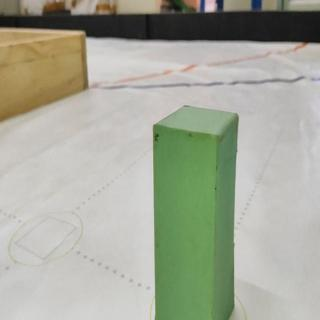greenbox: (151, 103, 241, 320)
